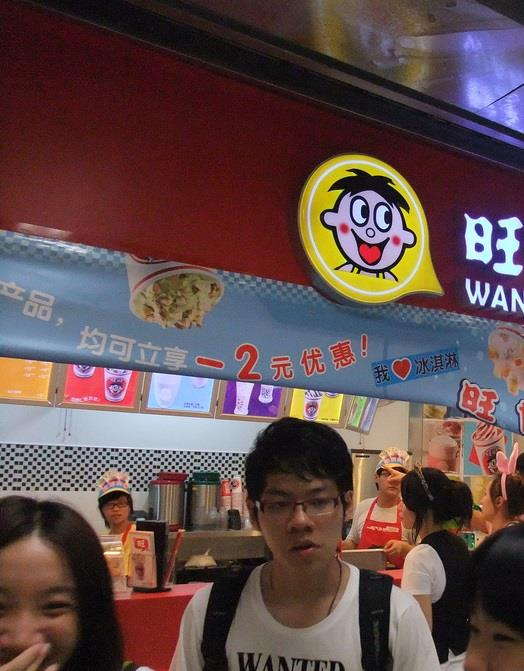wangzai: (315, 160, 421, 288)
